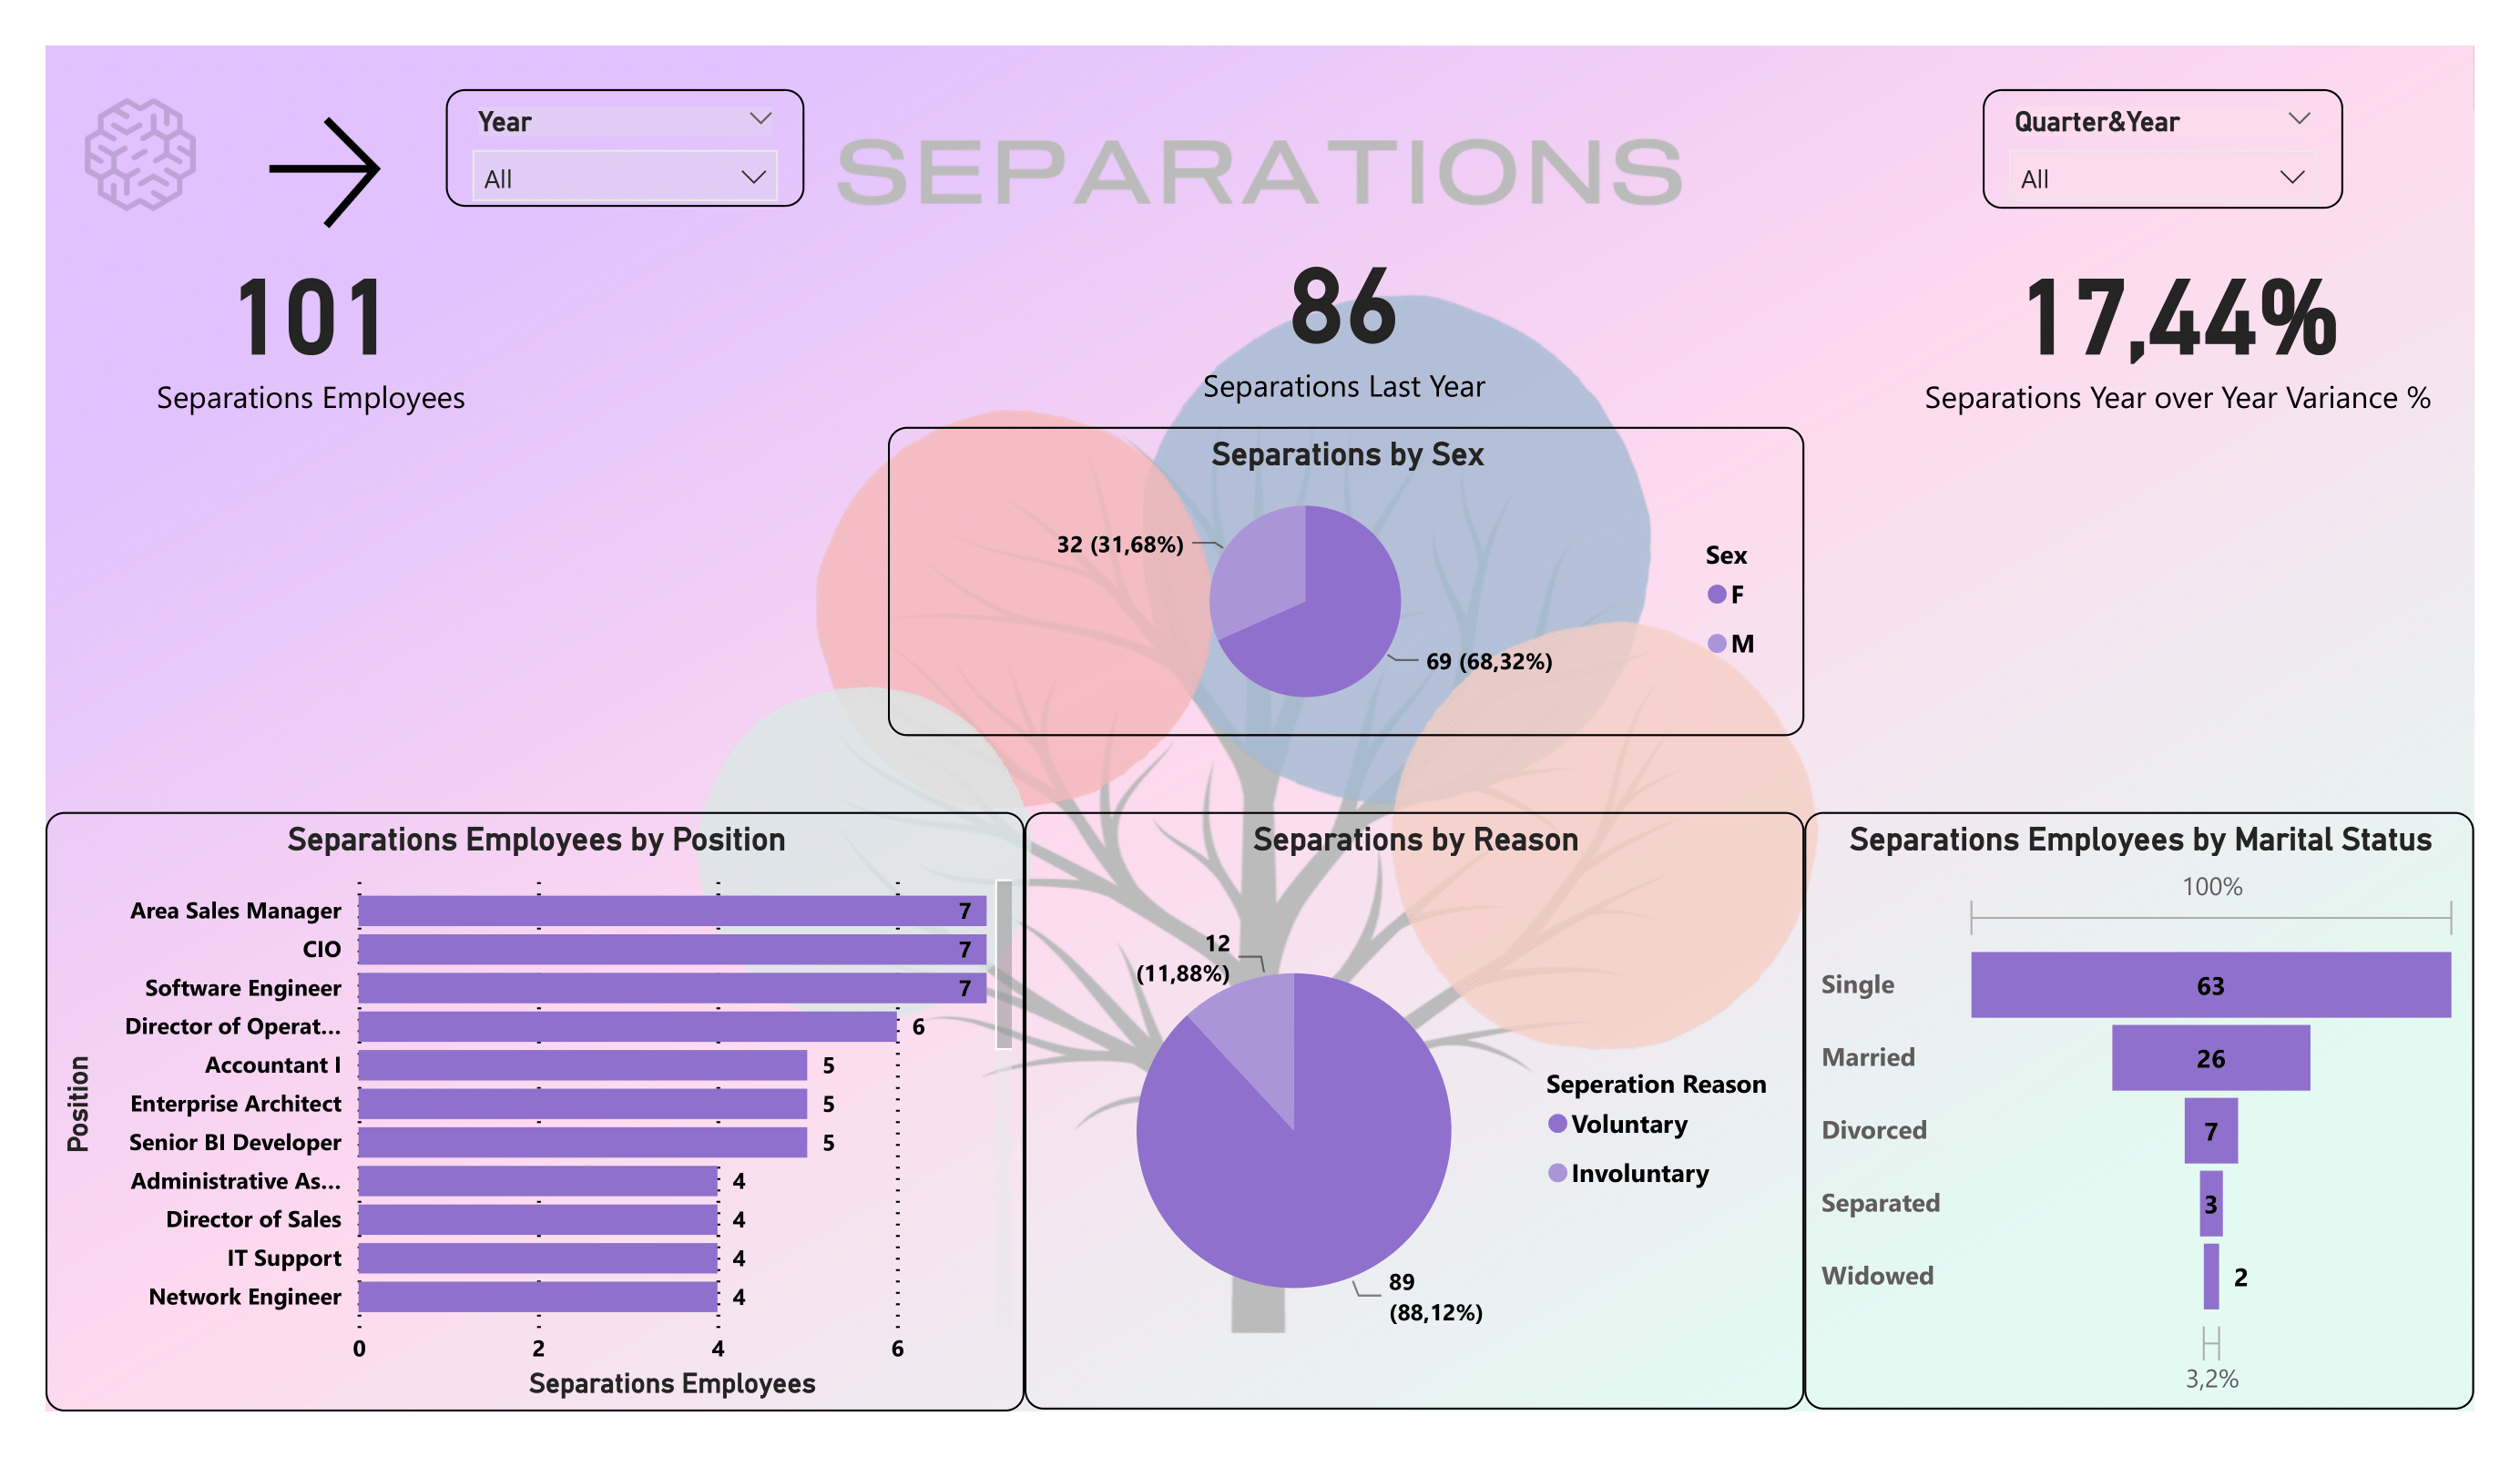

The page's visual inventory and layout, read from the dashboard file:
{"tool":"powerbi","page":{"name":"SEPARATIONS","canvas":[1280,720],"ordinal":6},"visuals":[{"type":"image","box":[15.4,22.7,69,69],"z":0},{"type":"barChart","title":"Separations Employees by Position","fields":{"Category":["Position.Position"],"Y":["1.DepartmentKeyMeasures.Separations Employees"]},"box":[0,404.5,516.3,315.2],"z":1000},{"type":"pieChart","title":"Separations  by Sex","fields":{"Category":["Gender.Sex"],"Y":["1.DepartmentKeyMeasures.Separations Employees"]},"box":[443.7,200.9,483.1,162.8],"z":2000},{"type":"card","fields":{"Values":["1.DepartmentKeyMeasures.Separations Employees"]},"box":[36.8,91.9,206.1,109],"z":3000},{"type":"card","fields":{"Values":["3.SeparationsKeyMeasures.Separation Last Year"]},"box":[575.5,85.7,218.4,109.8],"z":4000},{"type":"card","fields":{"Values":["3.SeparationsKeyMeasures.Separations Year over Year Variance %"]},"box":[979.7,92.3,288.2,108.2],"z":5000},{"type":"slicer","fields":{"Values":["Calendar.Year"]},"box":[210.8,22.8,189.1,62.7],"z":6000},{"type":"slicer","fields":{"Values":["Calendar.QuarterInCalendar"]},"box":[1020.8,22.7,189.7,62.8],"z":7000},{"type":"actionButton","box":[95.7,30.8,100.3,71.8],"z":8000},{"type":"funnel","title":"Separations Employees by Marital Status","fields":{"Category":["MaritalStatus.MaritalDesc"],"Y":["1.DepartmentKeyMeasures.Separations Employees"]},"box":[926.5,404.1,353.5,314.9],"z":9000},{"type":"pieChart","title":"Separations by Reason","fields":{"Category":["SeperationReason.SeperationReason"],"Y":["1.DepartmentKeyMeasures.Separations Employees"]},"box":[515.9,404.3,410.9,315.1],"z":10000}]}

Visuals, with their boxes on the page's 1280x720 design canvas (x1, y1, x2, y2). These are canvas units, not pixel positions in the 2520x1457 screenshot, which may show the page scaled, cropped or inside an application window:
image: [x1=15, y1=23, x2=84, y2=92]
"Separations Employees by Position" barChart: [x1=0, y1=404, x2=516, y2=720]
"Separations  by Sex" pieChart: [x1=444, y1=201, x2=927, y2=364]
card - 1.DepartmentKeyMeasures.Separations Employees: [x1=37, y1=92, x2=243, y2=201]
card - 3.SeparationsKeyMeasures.Separation Last Year: [x1=576, y1=86, x2=794, y2=196]
card - 3.SeparationsKeyMeasures.Separations Year over Year Variance %: [x1=980, y1=92, x2=1268, y2=200]
slicer - Calendar.Year: [x1=211, y1=23, x2=400, y2=86]
slicer - Calendar.QuarterInCalendar: [x1=1021, y1=23, x2=1210, y2=86]
actionButton: [x1=96, y1=31, x2=196, y2=103]
"Separations Employees by Marital Status" funnel: [x1=926, y1=404, x2=1280, y2=719]
"Separations by Reason" pieChart: [x1=516, y1=404, x2=927, y2=719]
